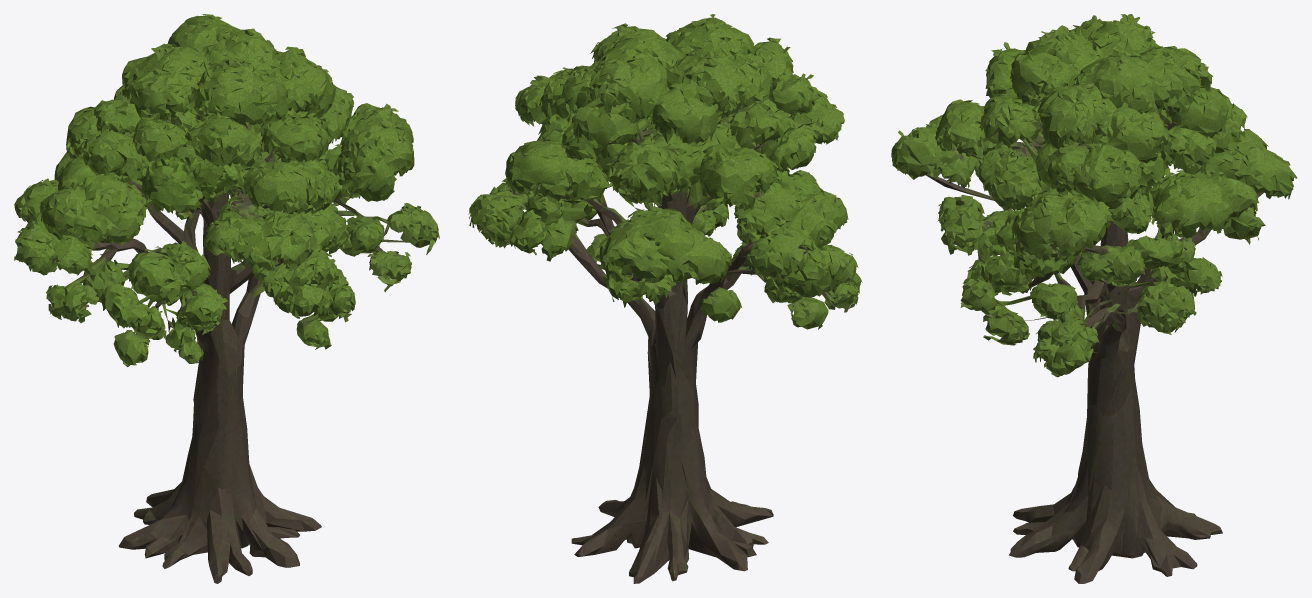
The model's file is tree_broadleaf.glb.
The picture shows the model from 3 angles, left to right: view 1: azimuth 30°, elevation 25°; view 2: azimuth 150°, elevation 25°; view 3: azimuth 270°, elevation 25°; orthographic projection.
Size of the model in its own units: 1.54 by 1.89 by 1.38.
Materials: 1 (1 with a texture image).
